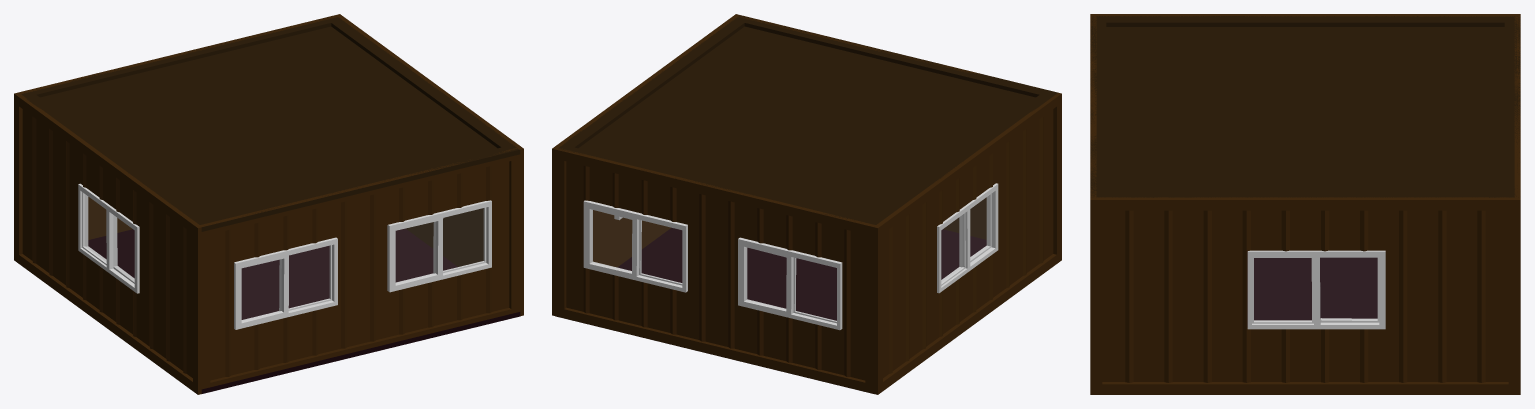
Rendered from 3D_08x08MedWindows.fbx.
The picture shows the model from 3 angles, left to right: view 1: azimuth 30°, elevation 25°; view 2: azimuth 150°, elevation 25°; view 3: azimuth 270°, elevation 25°; orthographic projection. The views are drawn at different scales.
Parts seen in each view (by area): view 1: Cube.050; view 2: Cube.050; view 3: Cube.050.
Part boxes in pixels (bbox=[...]): Cube.050: bbox=[14, 14, 523, 394]; Cube.050: bbox=[552, 14, 1061, 394]; Cube.050: bbox=[1090, 14, 1520, 394].
Size of the model in its own units: 818 by 400 by 800.
